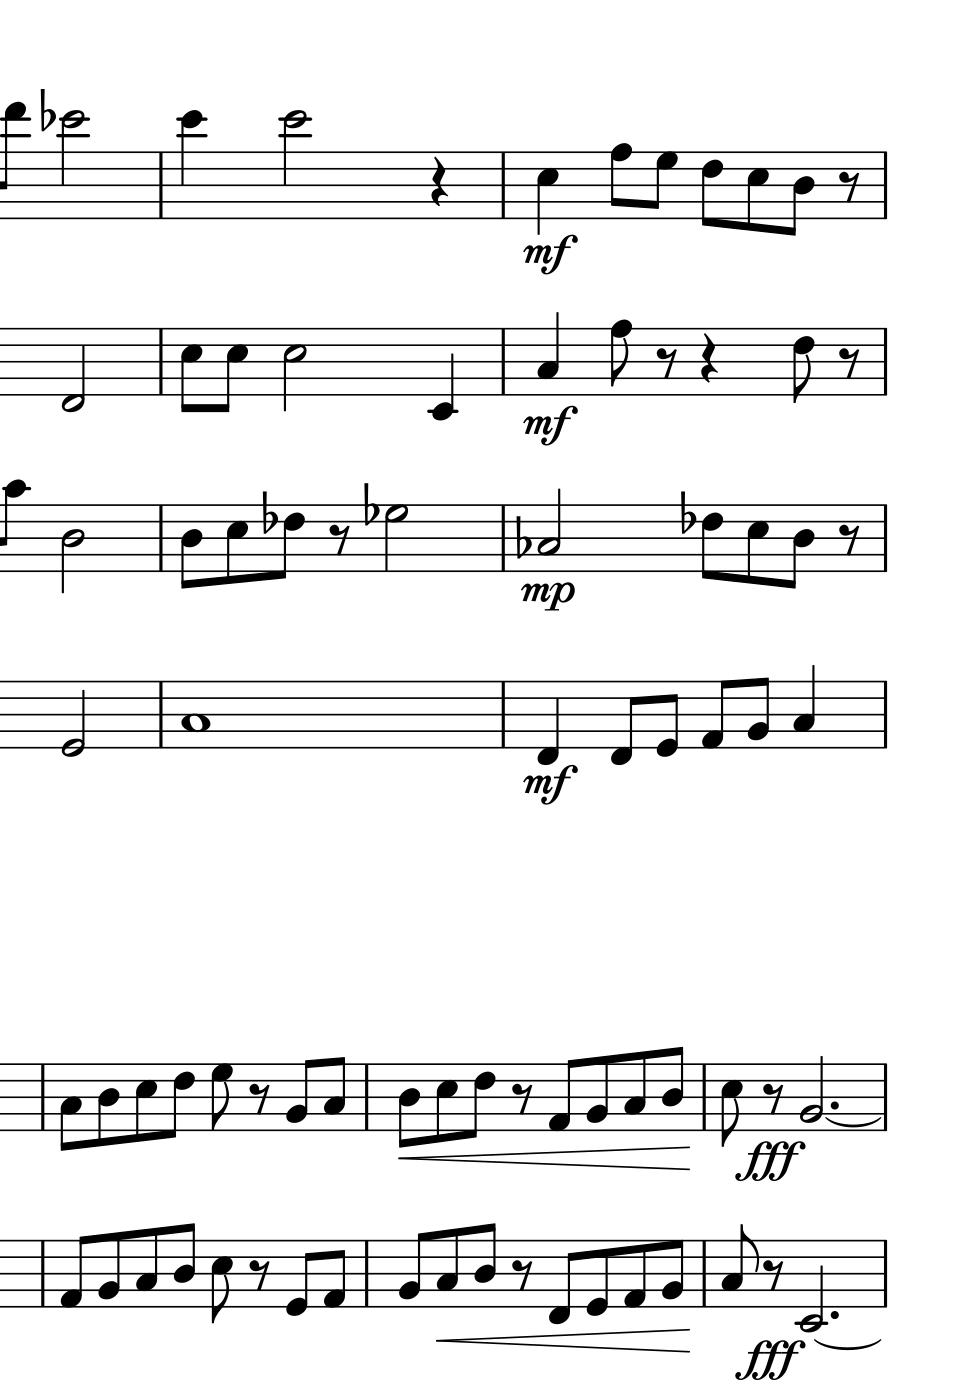1_3: (180, 678, 210, 750)
2_-1: (60, 324, 86, 413)
2_-2: (797, 1238, 825, 1335)
2_0: (59, 678, 86, 758)
2_12: (57, 109, 87, 223), (280, 109, 310, 222)
2_2: (798, 1054, 825, 1131)
2_3: (536, 487, 562, 572)
2_4: (59, 503, 84, 593)
2_5: (280, 327, 307, 414)
2_7: (382, 502, 408, 574)
4_-1: (535, 678, 560, 767)
4_-2: (428, 324, 456, 423)
4_12: (176, 108, 207, 222)
4_3: (535, 311, 561, 396), (791, 663, 817, 751)
4_5: (535, 150, 559, 236)
8_-1: (545, 1238, 579, 1327), (607, 679, 640, 768)
8_0: (283, 1239, 314, 1319), (655, 680, 681, 760), (584, 1238, 609, 1318)
8_1: (546, 1057, 579, 1133), (58, 1234, 90, 1310), (699, 678, 731, 751), (622, 1238, 648, 1309), (321, 1238, 347, 1311)
8_10: (1, 478, 27, 573)
8_13: (1, 102, 29, 221)
8_2: (395, 1230, 427, 1309), (284, 1058, 314, 1131), (584, 1054, 609, 1133), (97, 1231, 121, 1309), (746, 676, 770, 751), (660, 1238, 684, 1309)
8_3: (718, 1222, 758, 1309), (56, 1062, 82, 1153), (434, 1227, 460, 1310), (622, 1050, 647, 1133), (134, 1226, 159, 1309), (322, 1056, 346, 1133)
8_4: (783, 503, 815, 592), (783, 150, 815, 238), (395, 1062, 421, 1151), (661, 1045, 685, 1134), (178, 503, 203, 591), (172, 1221, 196, 1309), (473, 1221, 497, 1309), (95, 1062, 119, 1148)
8_5: (216, 327, 248, 415), (717, 1062, 743, 1148), (207, 1238, 233, 1324), (743, 502, 770, 587), (177, 326, 203, 415), (223, 503, 249, 586), (743, 150, 769, 233), (433, 1062, 458, 1144), (133, 1062, 157, 1143)
8_6: (272, 503, 305, 582), (465, 1062, 496, 1141), (164, 1062, 195, 1140), (699, 150, 724, 230), (790, 326, 816, 406), (699, 503, 724, 583)
8_7: (647, 150, 678, 220), (208, 1062, 233, 1131)
8_8: (607, 141, 633, 221), (608, 318, 633, 398)
Crescendo_hairpin: (399, 1145, 693, 1170), (434, 1327, 692, 1354)
Flat: (37, 86, 55, 133), (361, 481, 379, 527), (513, 514, 531, 560), (678, 490, 695, 536), (260, 489, 276, 536)
Rests4: (428, 155, 450, 209), (698, 331, 718, 385)
Rests8: (836, 521, 862, 558), (837, 345, 862, 381), (837, 169, 861, 205), (327, 522, 351, 557), (510, 1081, 533, 1116), (654, 346, 678, 380), (248, 1257, 270, 1292), (248, 1081, 270, 1115), (762, 1081, 784, 1115), (511, 1258, 533, 1292), (763, 1258, 785, 1292)
Single_barline: (494, 152, 513, 220), (876, 151, 894, 220), (494, 328, 512, 394), (876, 505, 894, 571), (358, 1240, 375, 1308), (876, 328, 893, 394), (152, 505, 169, 572), (495, 505, 512, 572), (152, 681, 169, 748), (152, 329, 169, 394), (34, 1063, 50, 1131), (495, 681, 511, 749), (696, 1064, 712, 1131), (153, 152, 169, 218), (358, 1064, 374, 1130), (34, 1241, 50, 1308), (877, 682, 893, 748), (877, 1063, 892, 1130), (697, 1240, 712, 1308), (877, 1240, 892, 1308)
Slur: (812, 1340, 877, 1351), (824, 1116, 882, 1126)
dot: (827, 1308, 841, 1323), (827, 1098, 841, 1112)
fff: (733, 1336, 806, 1385), (733, 1138, 807, 1185)
mf: (521, 765, 579, 808), (521, 234, 577, 276), (522, 405, 576, 448)
mp: (518, 580, 577, 615)
